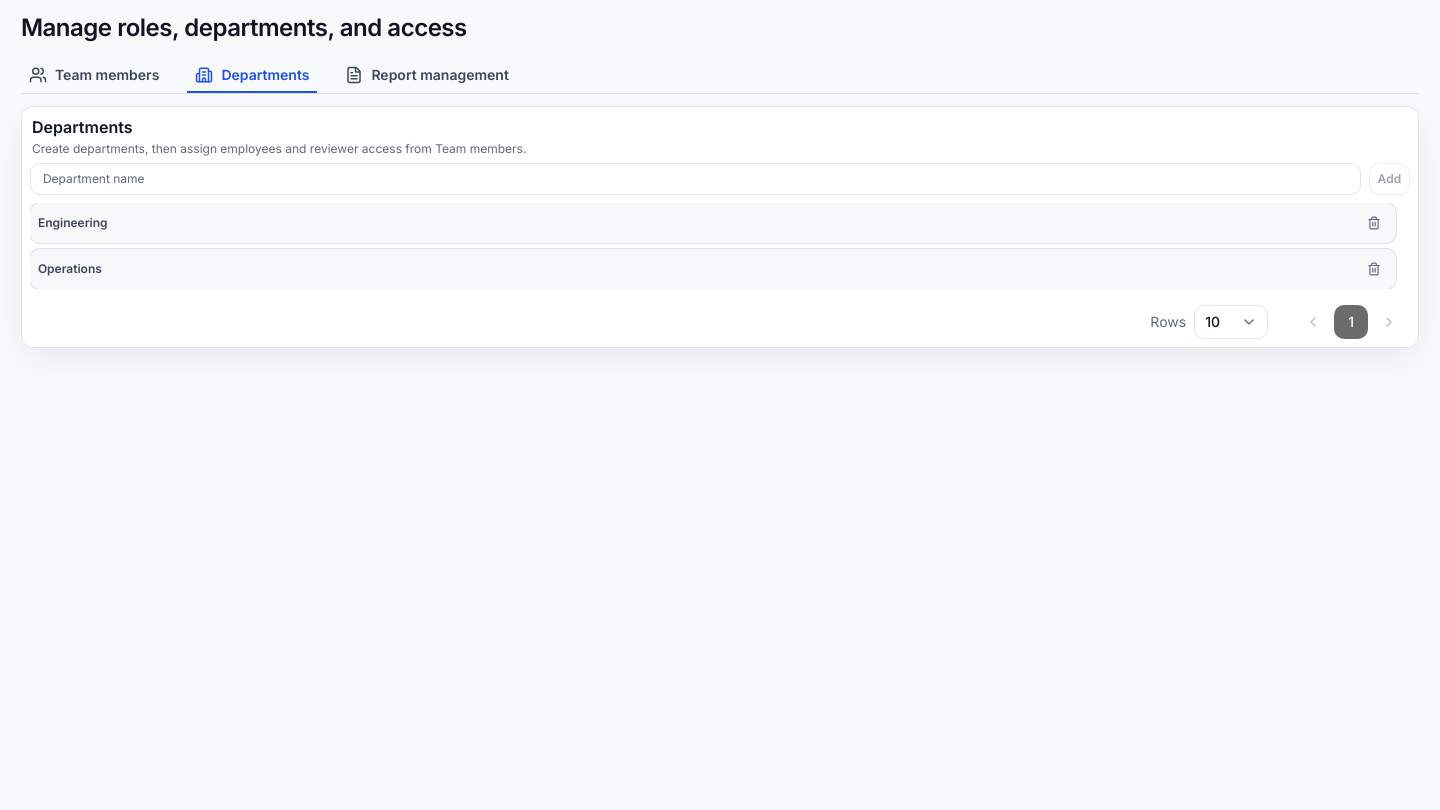
Test case: AdminUsers › removes a department from the admin department list and assignments
The image size is (1440, 810).
Check: the element named "departments pagination" is shown, box [1150,305,1406,339]
Click the button named "Remove Engineering department".
click(1374, 223)  # box [1360,209,1388,237]
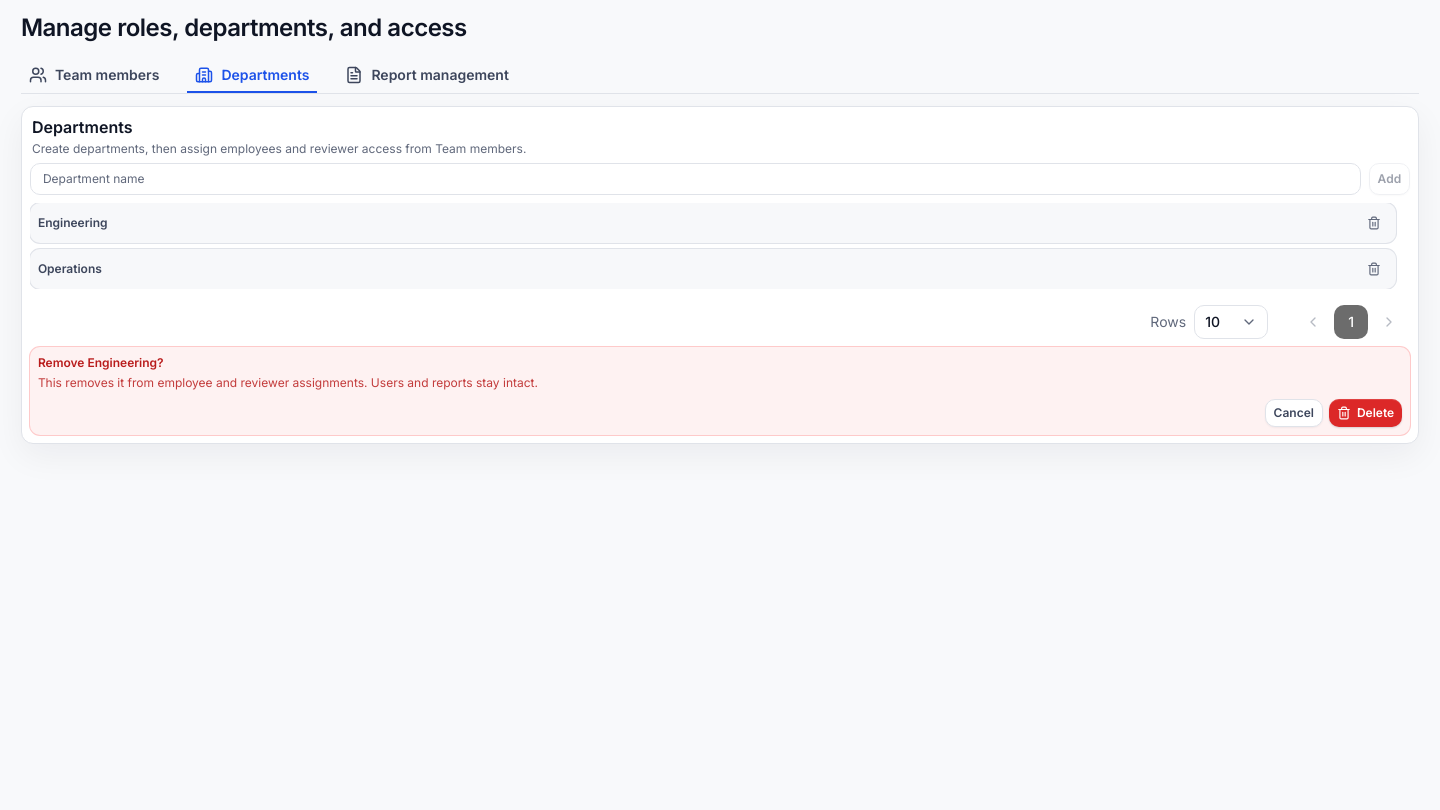
Check: the text "Remove Engineering?" is shown, box [38,355,164,370]
Click the button "Delete".
click(1366, 413)  # box [1329,399,1402,427]
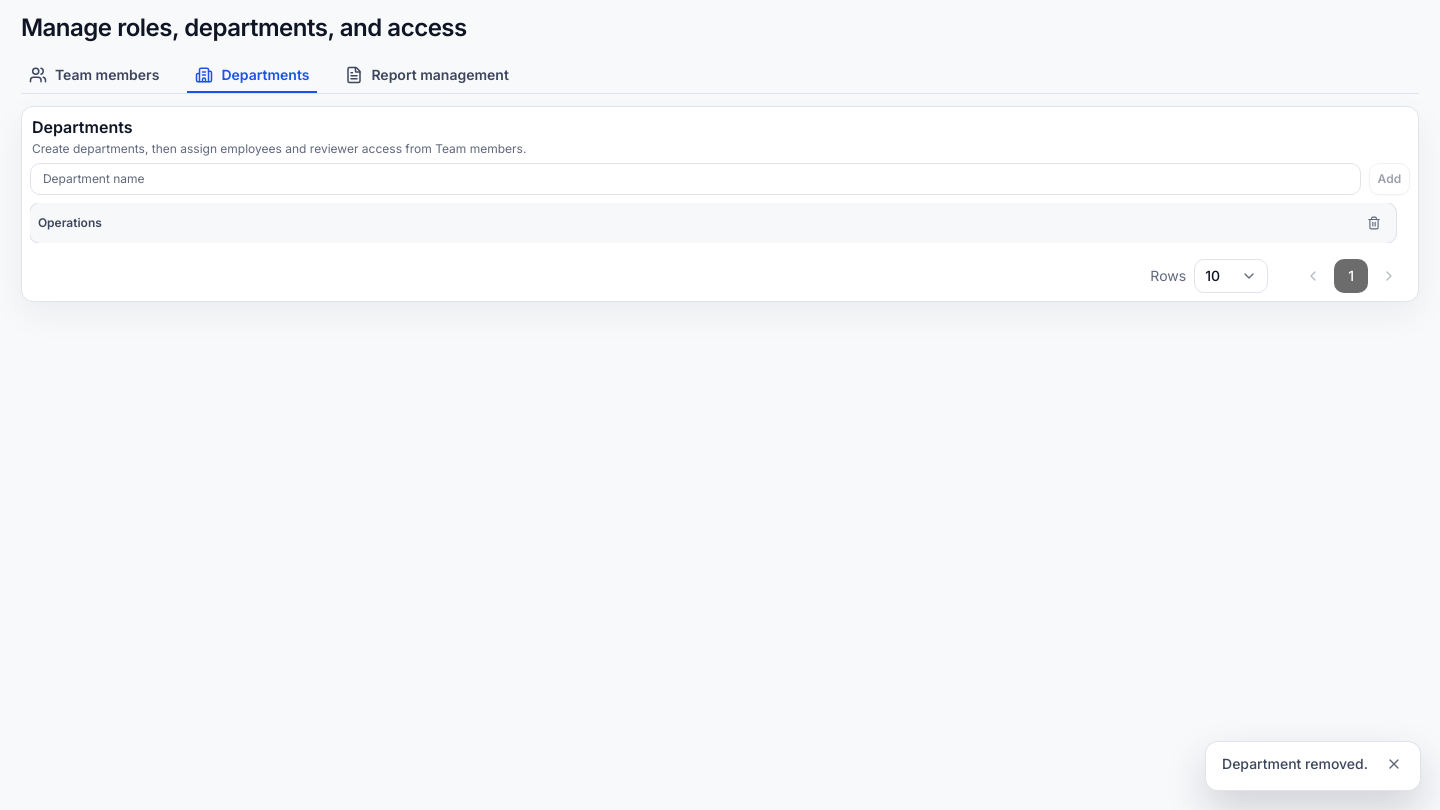
Check: the text "Engineering" is gone
Check: the text "Department removed." is shown, box [1222,754,1368,774]
